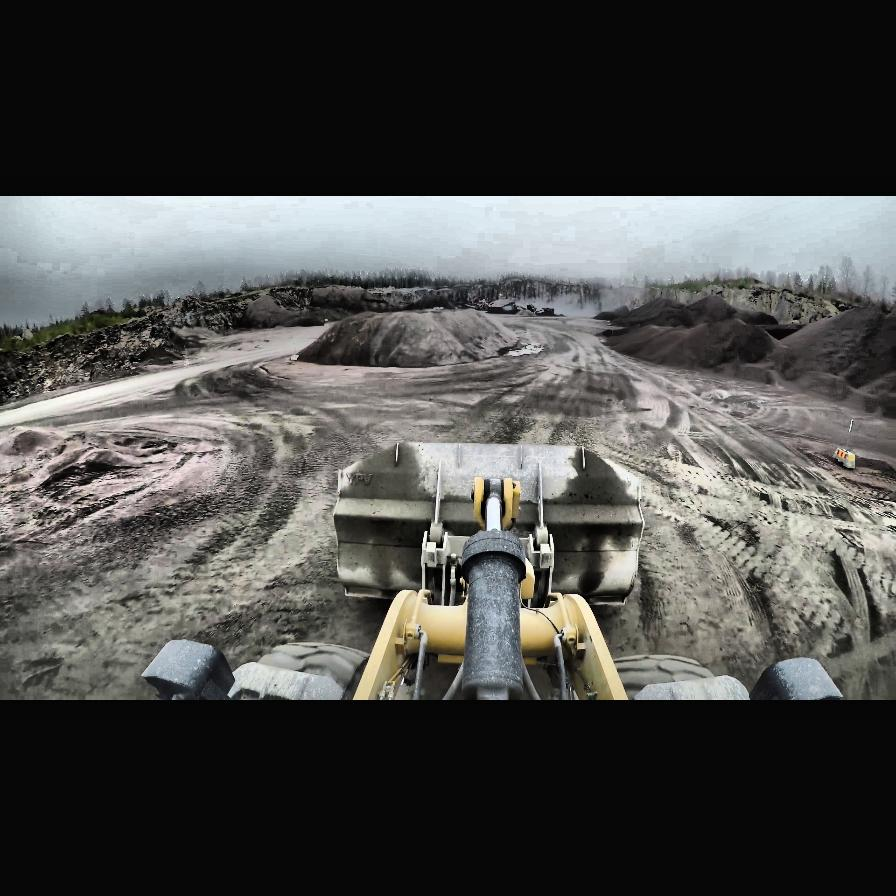anchor: (470, 477, 518, 531)
pile of gravel: (594, 290, 890, 412), (297, 309, 509, 369), (610, 293, 776, 335), (240, 289, 334, 329), (306, 285, 384, 317), (592, 310, 622, 320), (600, 327, 630, 337)
